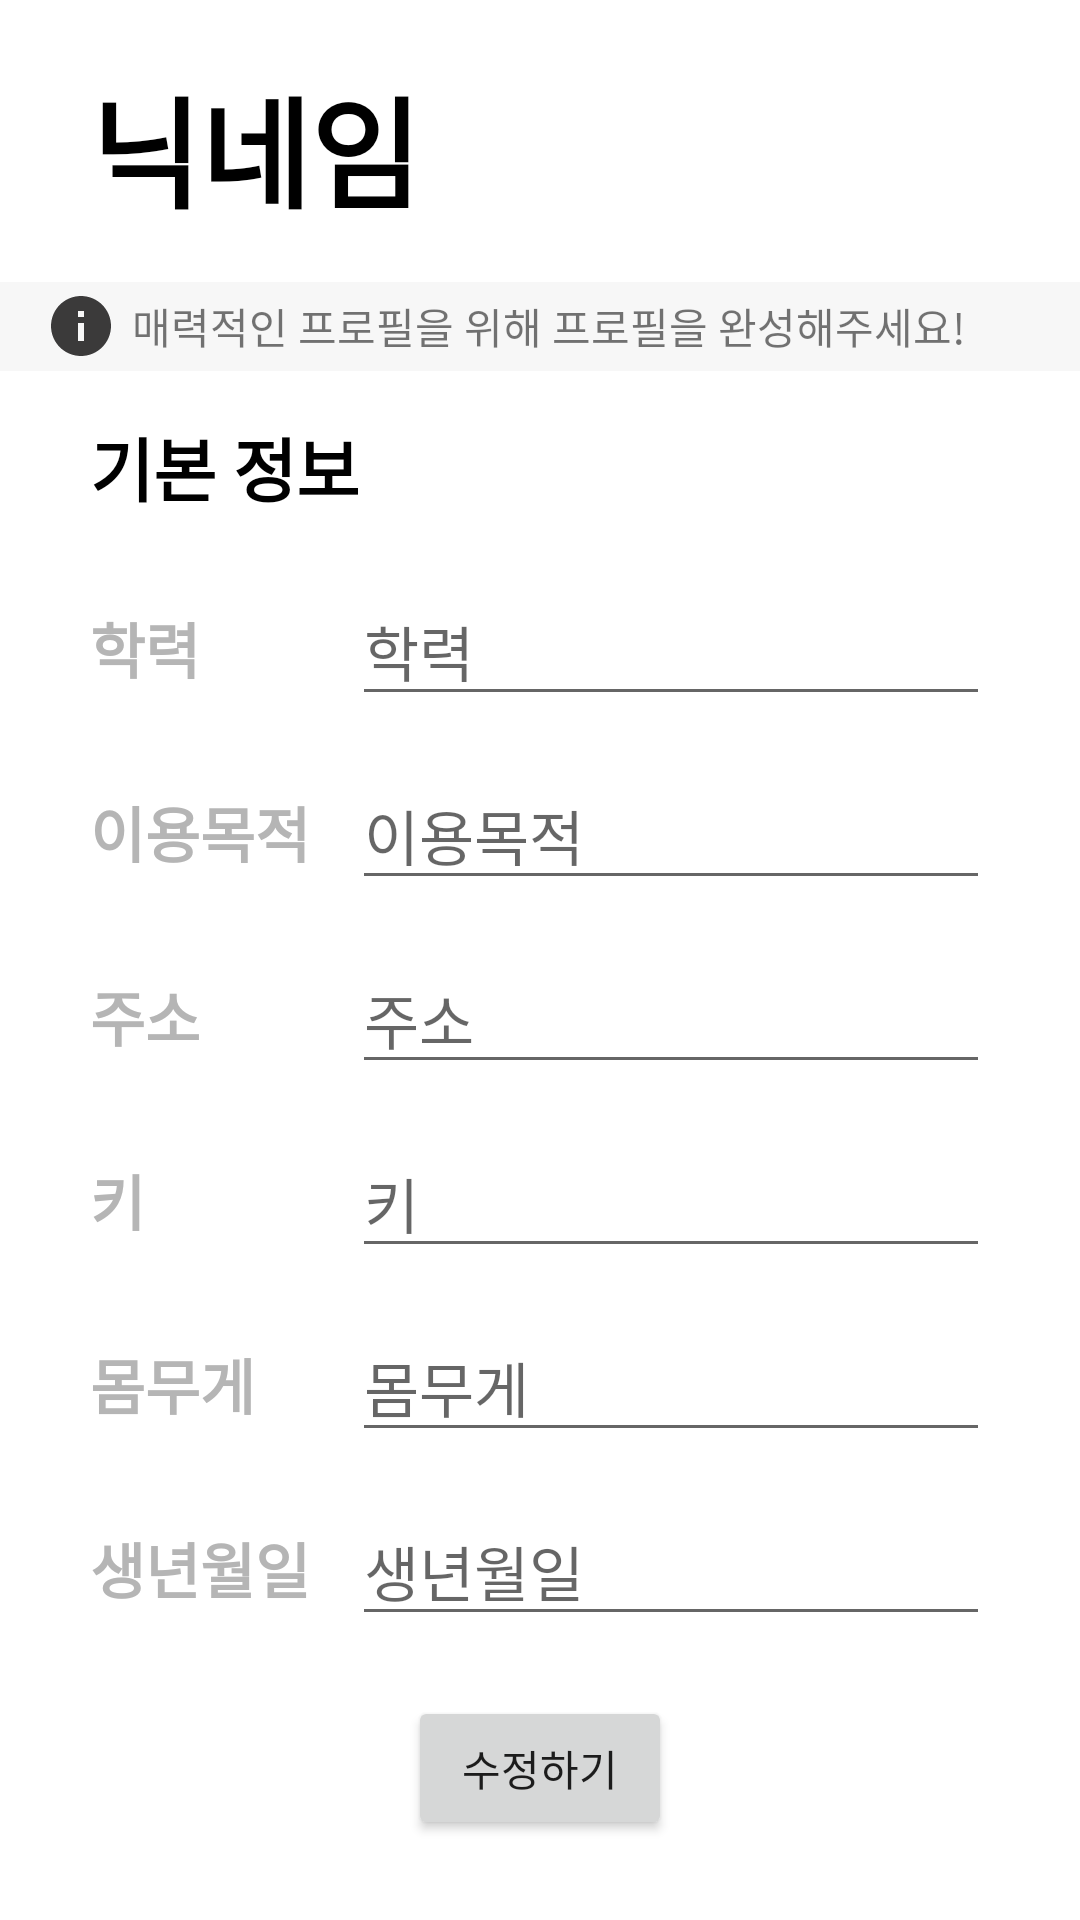

Where to tap for icons on this 1080w x 1920h app screen, as (x=x, y=y):
info: (x=81, y=326)
